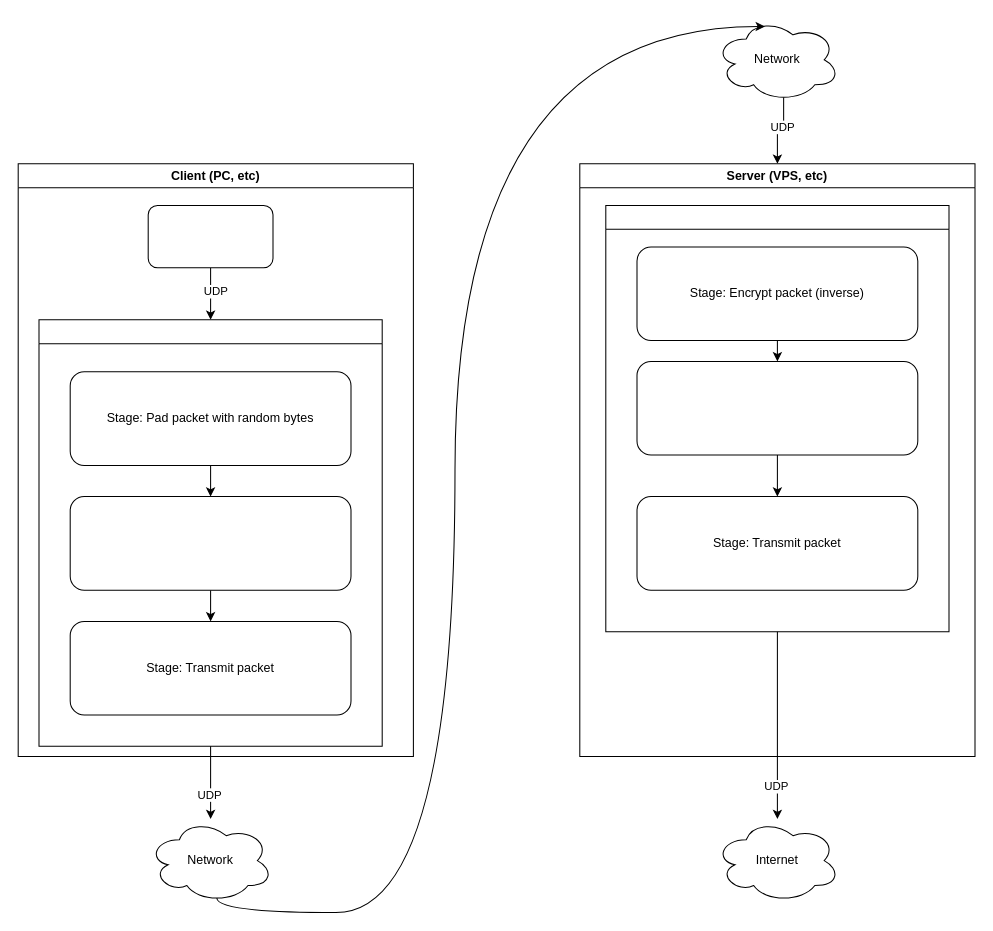
Some shapes in this 993 by 931 pixel diagram are drawn without their labels. The shapes that lost their labels are listed below. From the top down, each one's box as (x1, y1, x2, y2) in pixels, then its label:
(147, 204, 273, 268): OS Process
(636, 360, 918, 455): Stage: Pad packet with rnd bytes (inverse)
(605, 204, 949, 632): UDP proxy (OS process]
(38, 319, 382, 746): UDP proxy (OS process)
(69, 496, 351, 590): Stage: Encrypt packet
